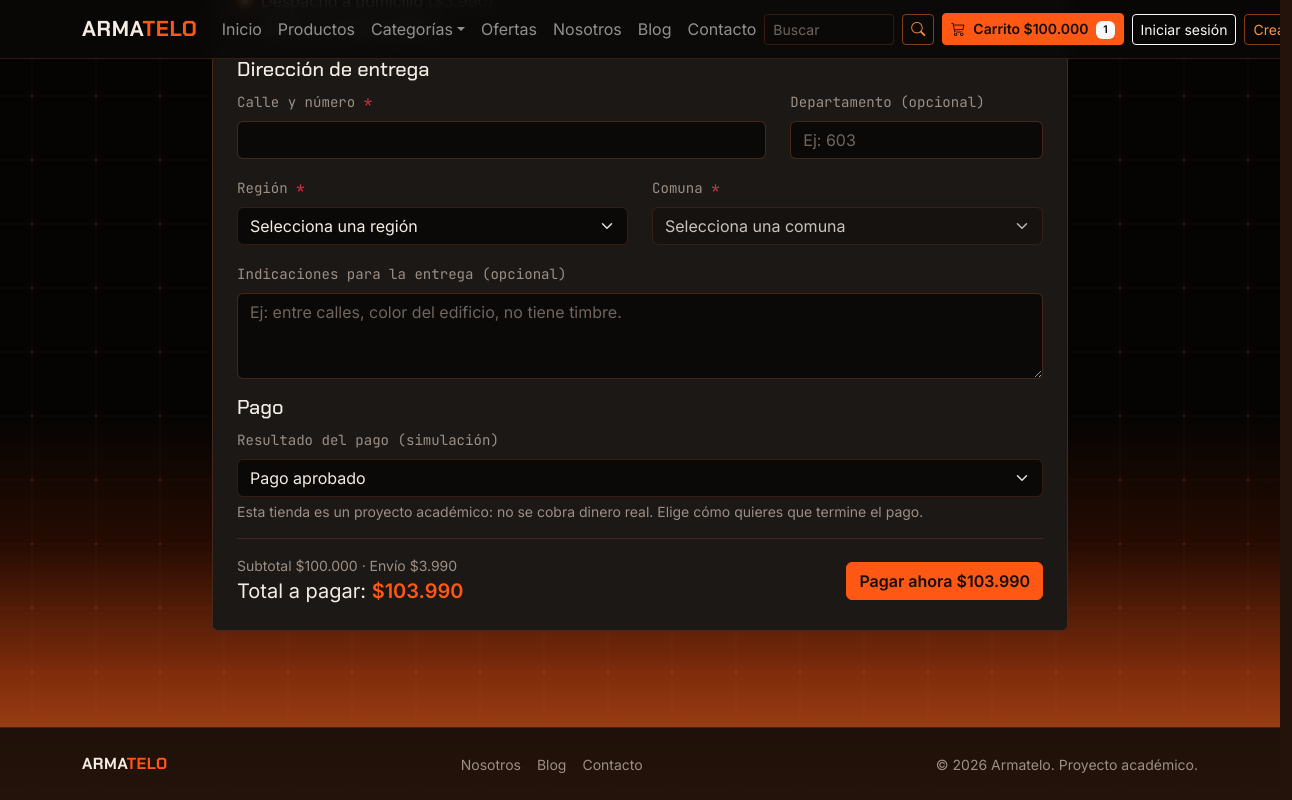
Test: Flujo de compra (integración) › el checkout muestra los errores de los campos obligatorios
The image size is (1292, 800).
(page scrolled)
Click the button "Pagar ahora $103.990" at (945, 581), box [846, 562, 1043, 600]
(page scrolled)
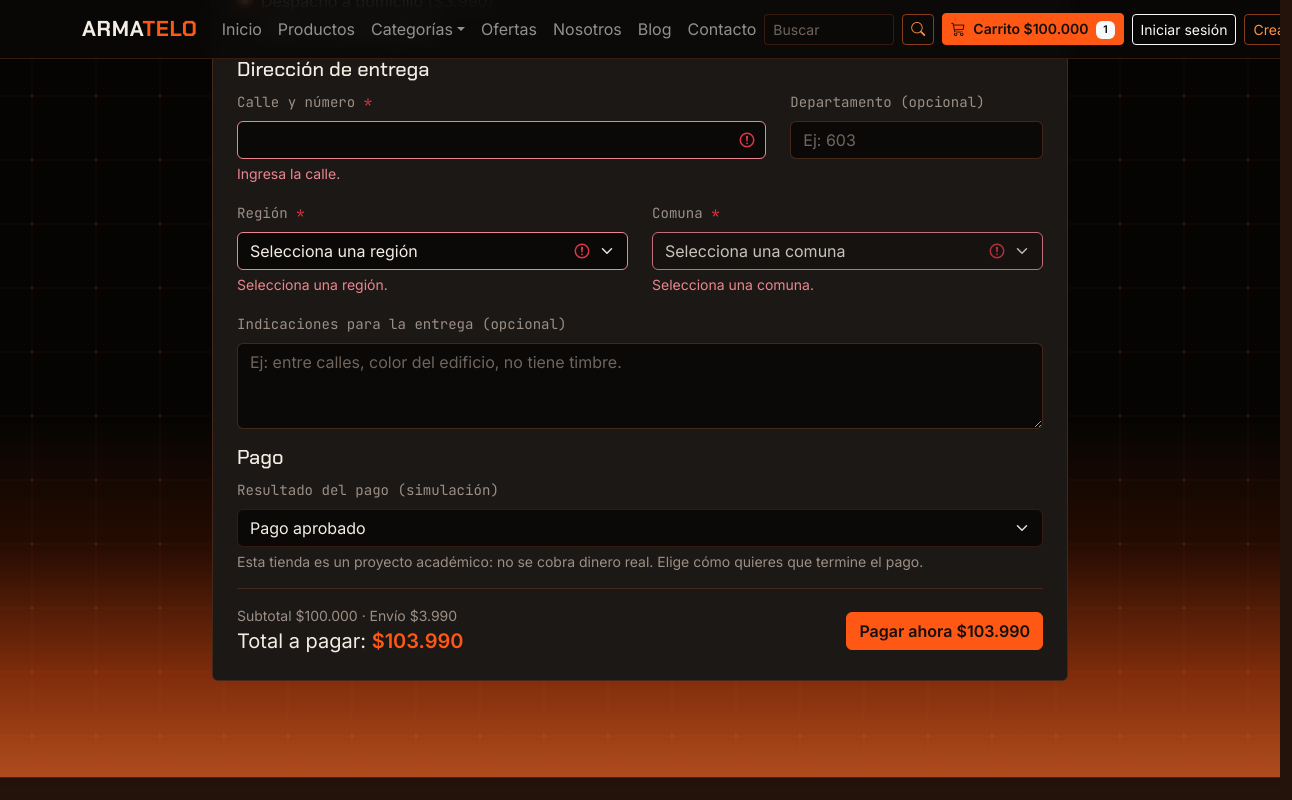
Result: the text "Ingresa la calle." is shown at [237, 165, 340, 182]
